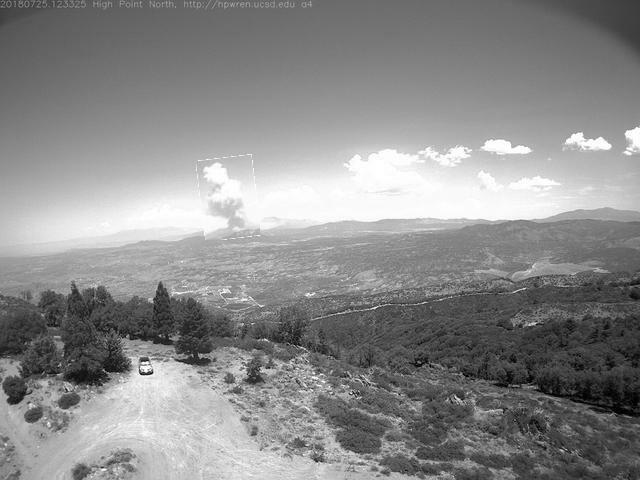smoke: (200, 157, 260, 241)
